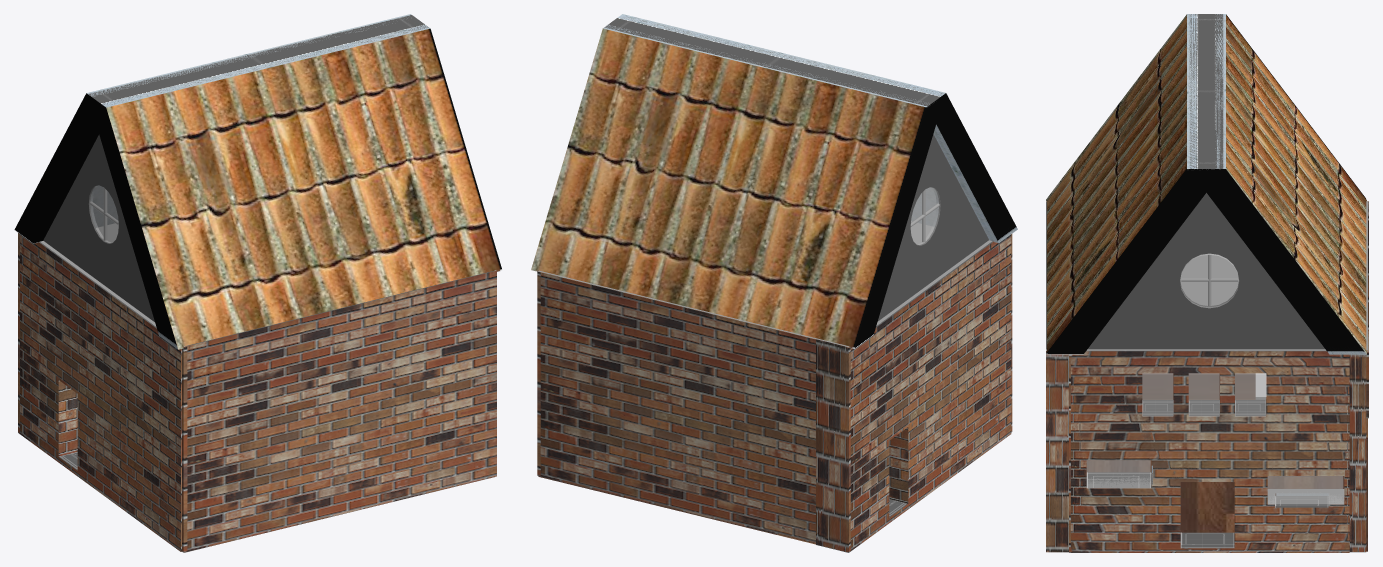
Rendered from House 1.fbx.
The picture shows the model from 3 angles, left to right: view 1: azimuth 30°, elevation 25°; view 2: azimuth 150°, elevation 25°; view 3: azimuth 270°, elevation 25°; orthographic projection. The views are drawn at different scales.
Visible parts, largest first — view 1: pCube20, pCube6, pCube3, pCube36, pCube43, pCylinder2, pPlane3; view 2: pCube43, pCube5, pCube3, pCube20, pCube36, pCylinder2, pPlane3; view 3: pCube39, pCube20, pCube43, pCube35, pPlane1, pCube6, pCube5, pCylinder2, pPlane3, pCube10, pCube38, pCube37 (+3 smaller).
Boxes of the visible parts, bbox=[...] form: pCube20: bbox=[87, 14, 502, 349]; pCube6: bbox=[182, 270, 496, 552]; pCube3: bbox=[18, 233, 181, 551]; pCube36: bbox=[43, 134, 154, 321]; pCube43: bbox=[14, 14, 428, 243]; pCylinder2: bbox=[89, 185, 118, 243]; pPlane3: bbox=[40, 223, 156, 326]; pCube43: bbox=[531, 17, 943, 348]; pCube5: bbox=[537, 270, 815, 543]; pCube3: bbox=[816, 234, 1011, 552]; pCube20: bbox=[604, 14, 1017, 243]; pCube36: bbox=[877, 134, 988, 321]; pCylinder2: bbox=[910, 187, 940, 245]; pPlane3: bbox=[538, 221, 992, 346]; pCube39: bbox=[1069, 350, 1349, 552]; pCube20: bbox=[1046, 14, 1224, 354]; pCube43: bbox=[1188, 14, 1366, 354]; pCube35: bbox=[1088, 193, 1324, 349]; pPlane1: bbox=[1087, 418, 1367, 551]; pCube6: bbox=[1046, 201, 1068, 552]; pCube5: bbox=[1349, 354, 1366, 552]; pCylinder2: bbox=[1180, 253, 1238, 308]; pPlane3: bbox=[1087, 201, 1367, 349]; pCube10: bbox=[1142, 373, 1255, 399]; pCube38: bbox=[1267, 476, 1343, 504]; pCube37: bbox=[1086, 460, 1150, 487].
Bounding box in the file's own units: 7.05 × 8.19 × 6.21.
